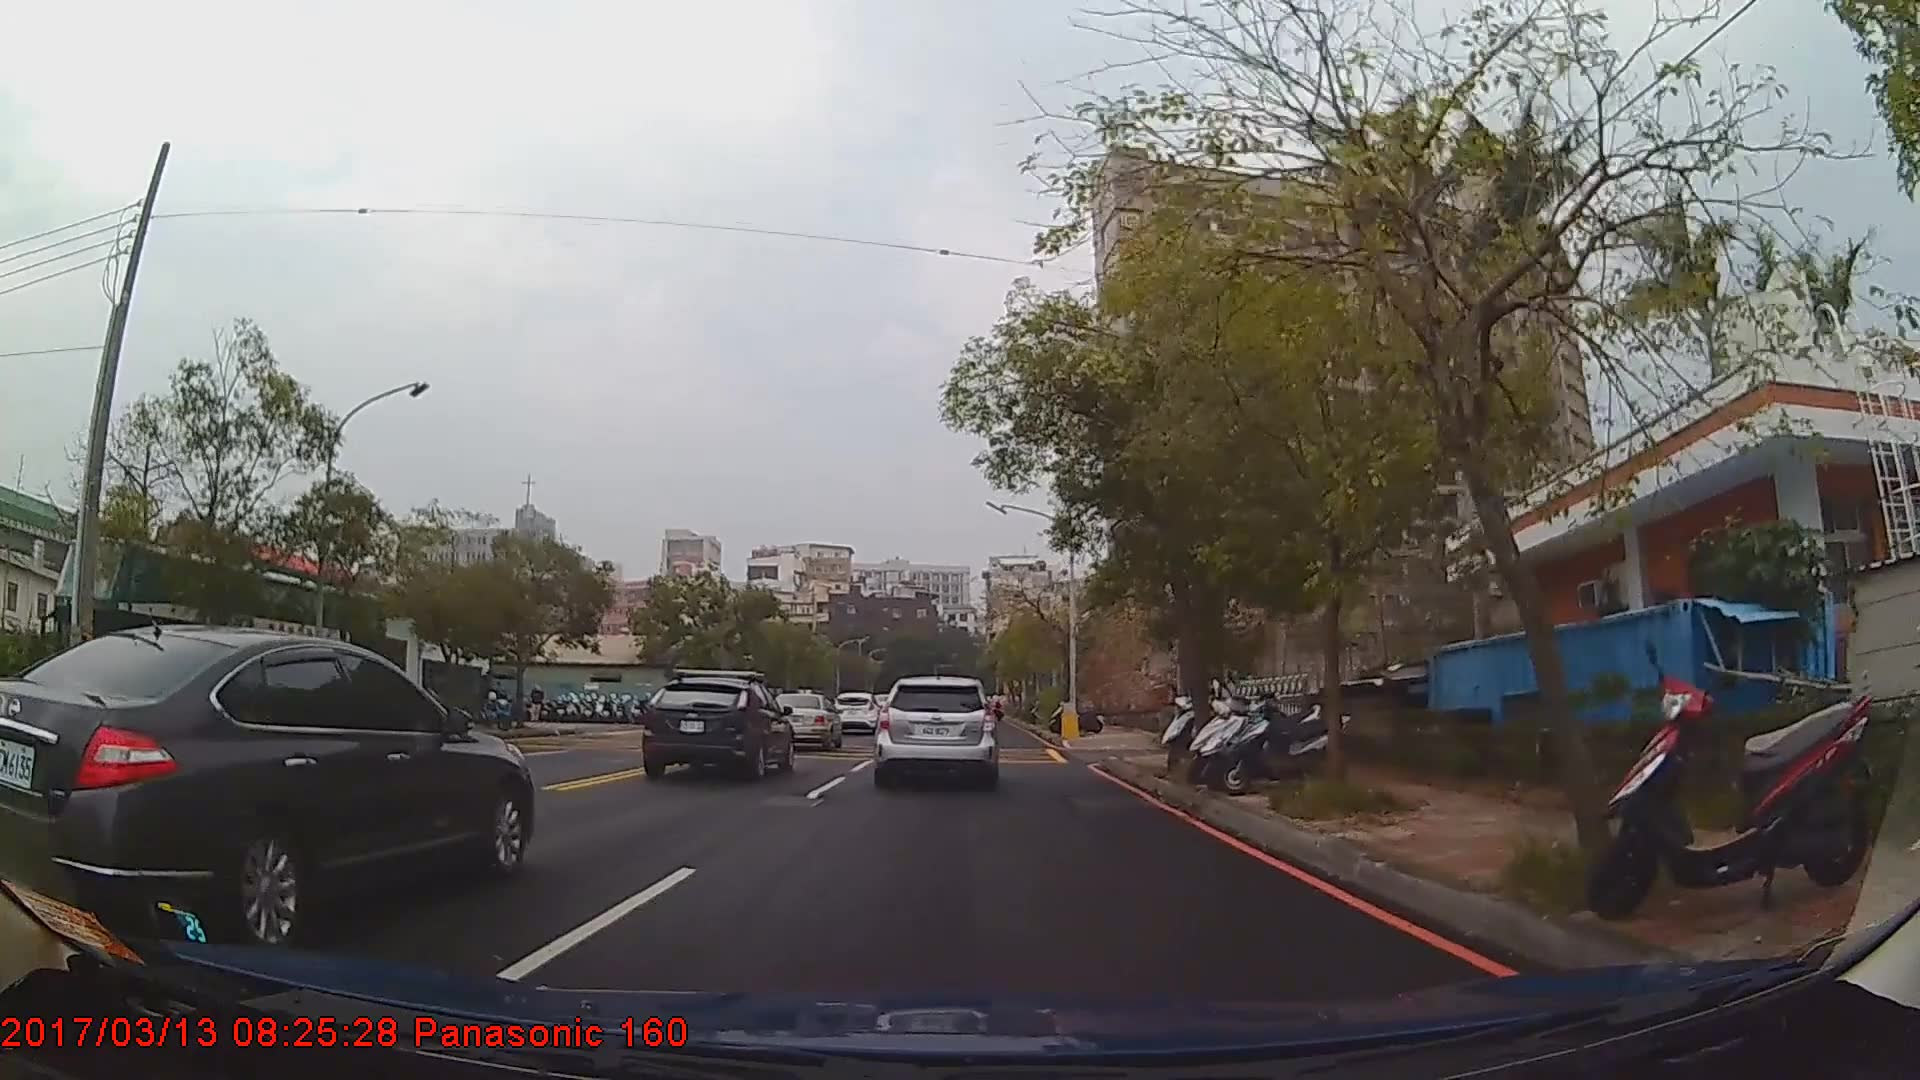vehicle: (0, 622, 534, 945), (34, 531, 382, 746), (640, 673, 796, 781), (878, 670, 1002, 787), (767, 690, 843, 752), (831, 690, 881, 735)
